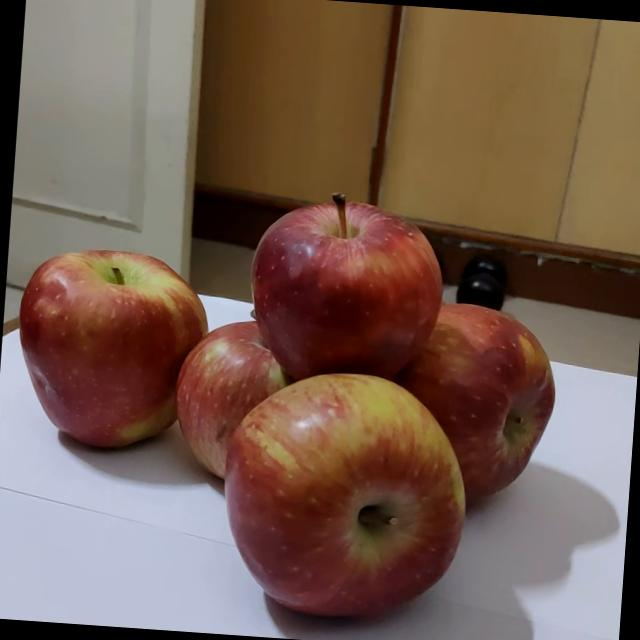apple: (192, 353, 460, 626), (6, 230, 282, 466), (340, 293, 555, 516), (241, 164, 450, 378)
